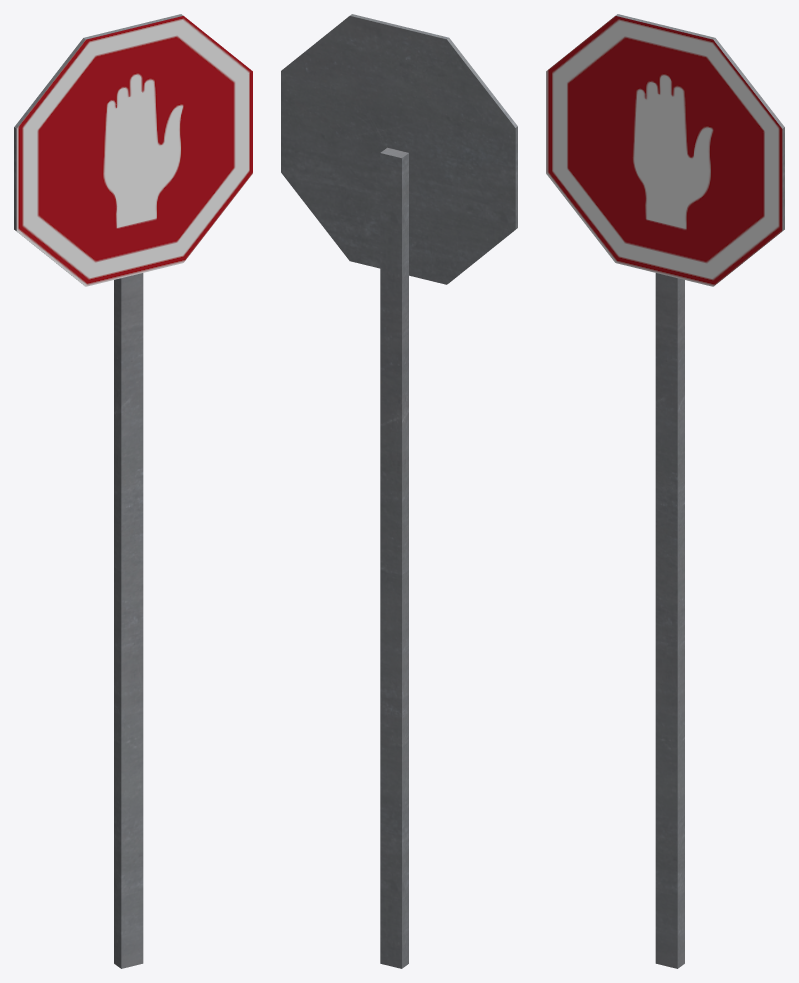
The model's file is stopsign.gltf.
3 renders of one model, left to right at view 1: azimuth 30°, elevation 25°; view 2: azimuth 150°, elevation 25°; view 3: azimuth 330°, elevation 25°, orthographic.
Visible parts, largest first — view 1: node2, node1; view 2: node1; view 3: node2, node1.
Part boxes in pixels (x1,y1,x2,y2): node2: (16, 16, 252, 286); node1: (14, 14, 183, 968); node1: (281, 14, 517, 968); node2: (546, 16, 782, 286); node1: (615, 14, 784, 968).
Bounding box in the file's own units: 0.56 × 2.13 × 0.04.
